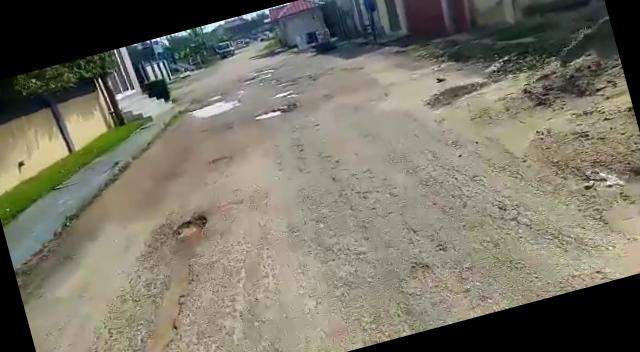pothole: (184, 95, 242, 124), (170, 210, 212, 242), (249, 104, 292, 124)
